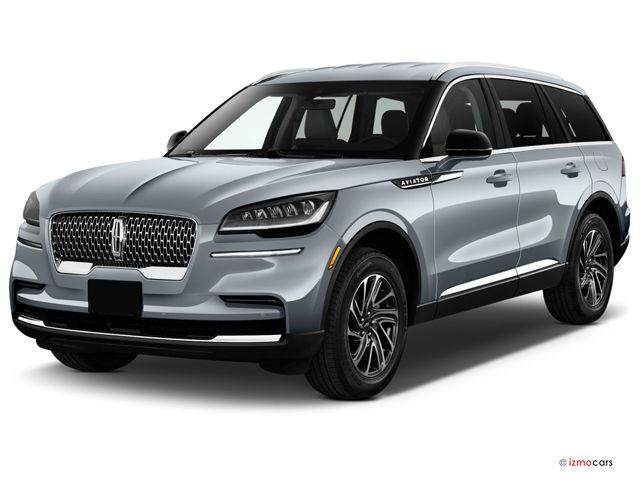lincoln: (107, 211, 133, 265)
